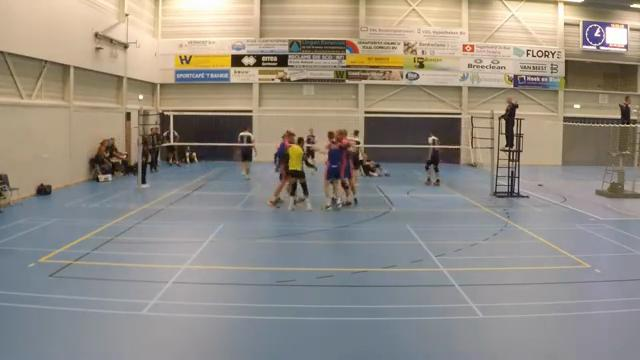Player: (287, 137, 314, 210), (268, 130, 294, 205), (325, 131, 343, 209), (336, 129, 354, 205), (349, 130, 361, 204), (238, 127, 255, 179), (425, 134, 439, 185), (304, 128, 315, 163)
